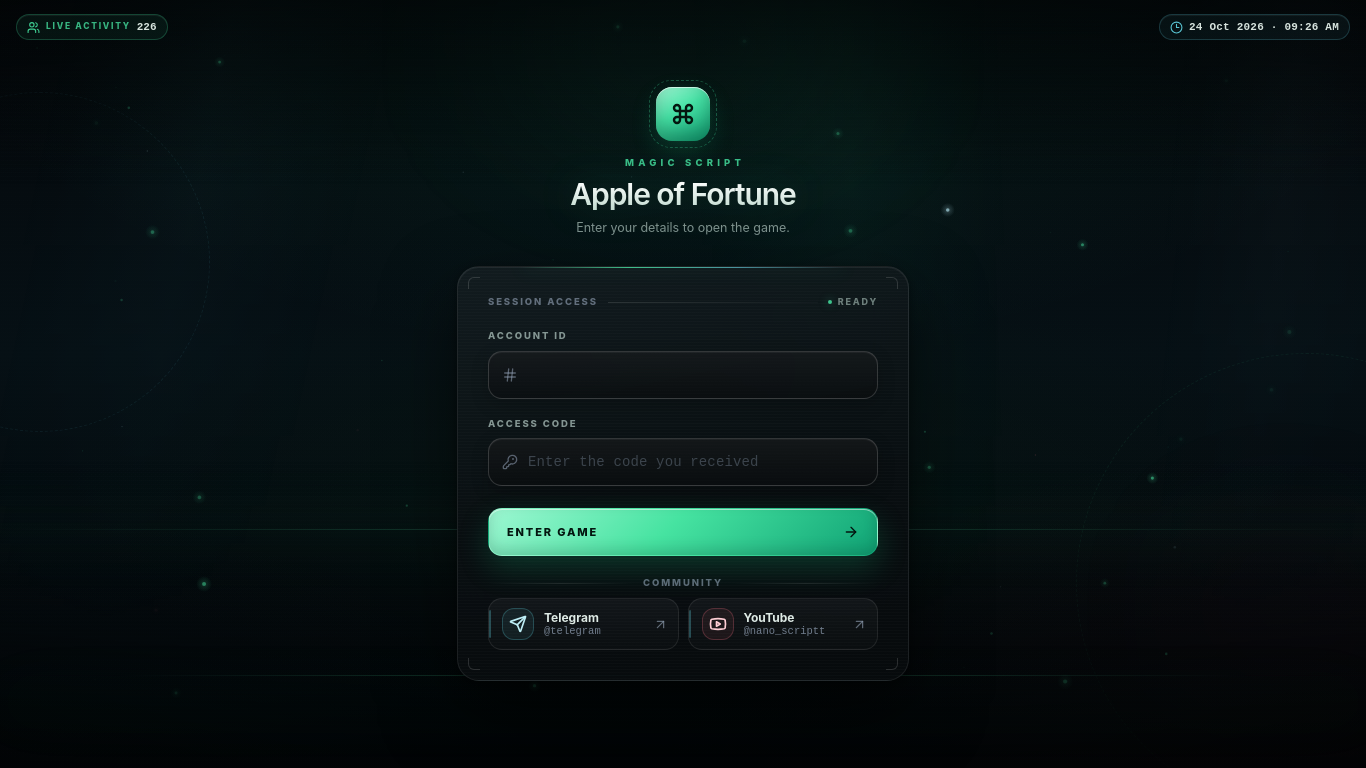
Test case: Apple of Fortune login screen › rejects an empty Account ID
Type "MS-ABCDE-FGHIJ-KLMNP-QRSTU" into the field labelled "Access Code" at (696, 462), box 528,439 -> 864,485
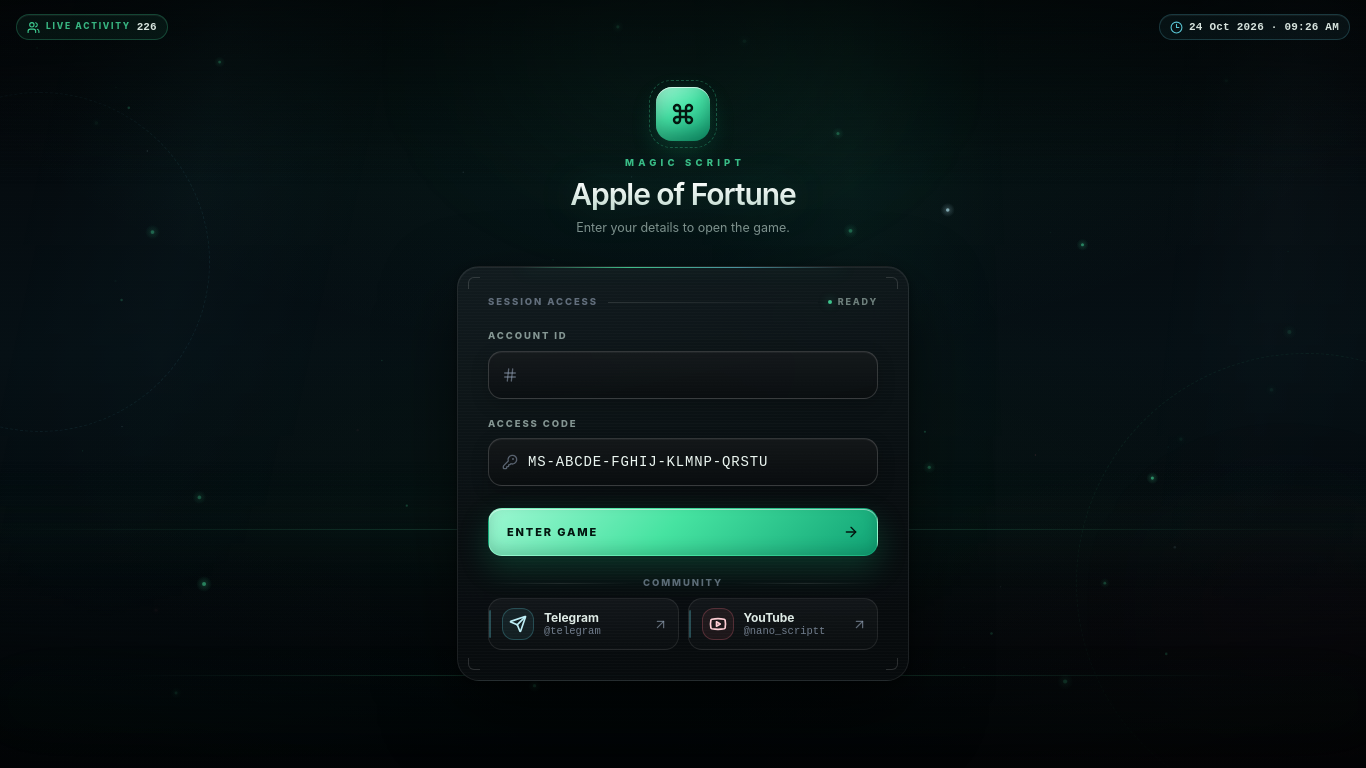
Click the button "Enter game" at (553, 532), box 488,508 -> 878,556
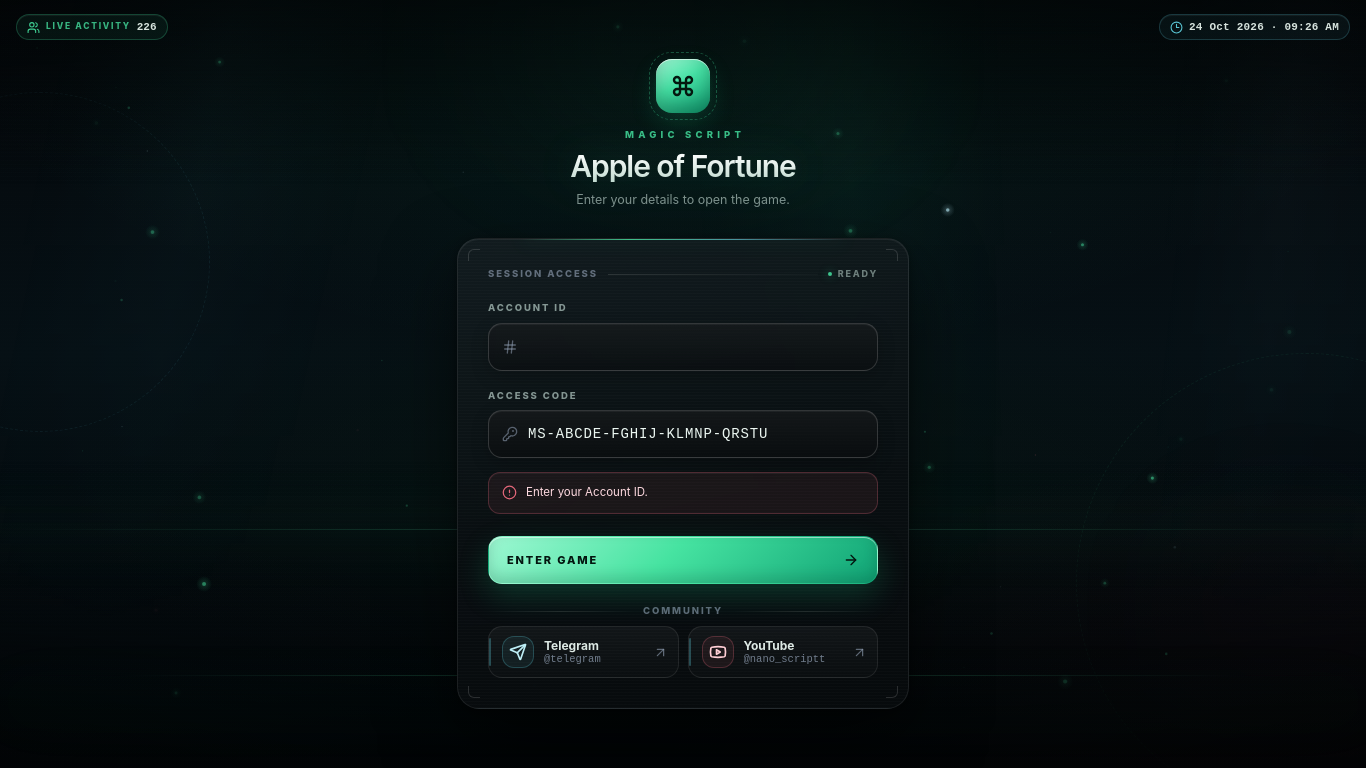
Result: the message reads "Enter your Account ID." at 526,485 -> 648,499
